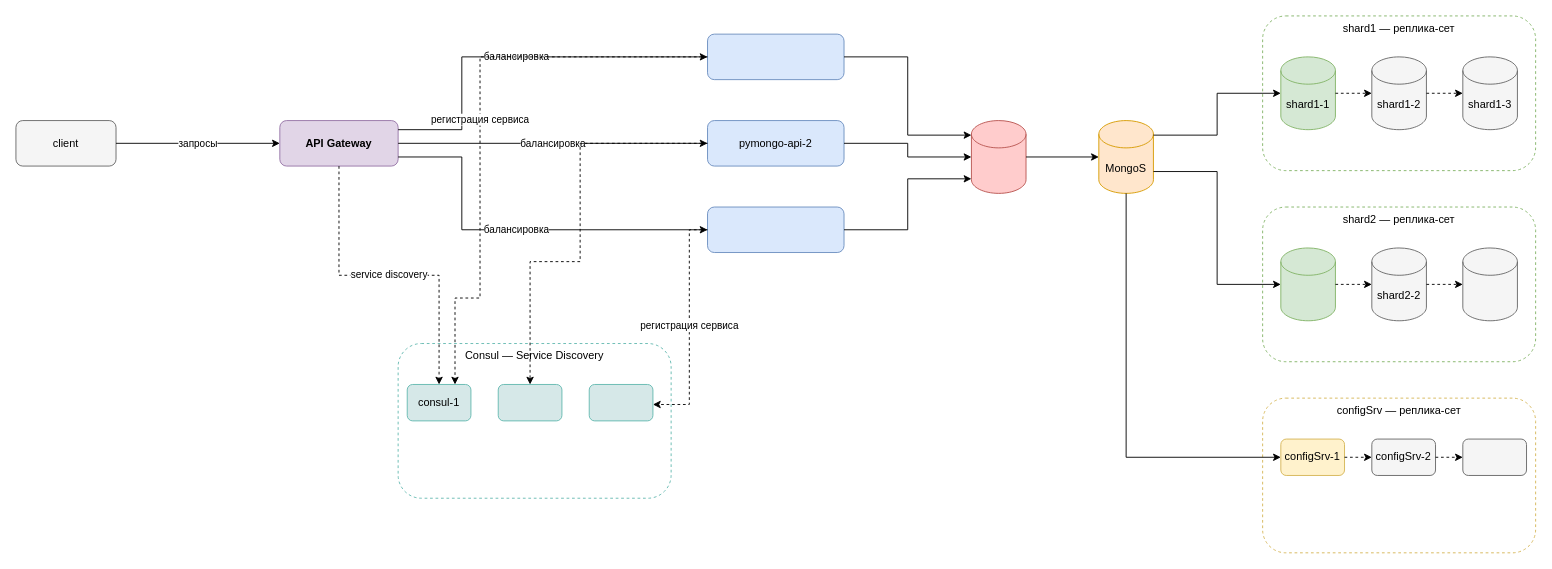
Some shapes in this 1552 by 569 pixel diagram are drawn without their labels. The shapes that lost their labels are listed below. From the top down, each one's centre as x and y in pixels, then its label:
At (x=775, y=56): "pymongo-api-1".
At (x=998, y=156): "redis".
At (x=775, y=229): "pymongo-api-3".
At (x=1307, y=284): "shard2-1".
At (x=1489, y=284): "shard2-3".
At (x=529, y=402): "consul-2".
At (x=620, y=402): "consul-3".
At (x=1494, y=456): "configSrv-3".
